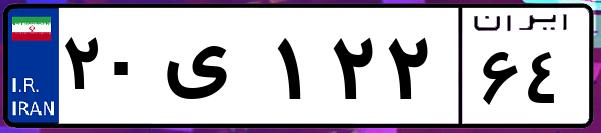0: (110, 28, 158, 98)
1: (270, 28, 330, 110)
2: (385, 28, 445, 110), (330, 28, 385, 110), (57, 26, 110, 100)
4: (525, 38, 570, 115)
6: (475, 38, 525, 113)
ی: (158, 20, 270, 120)
